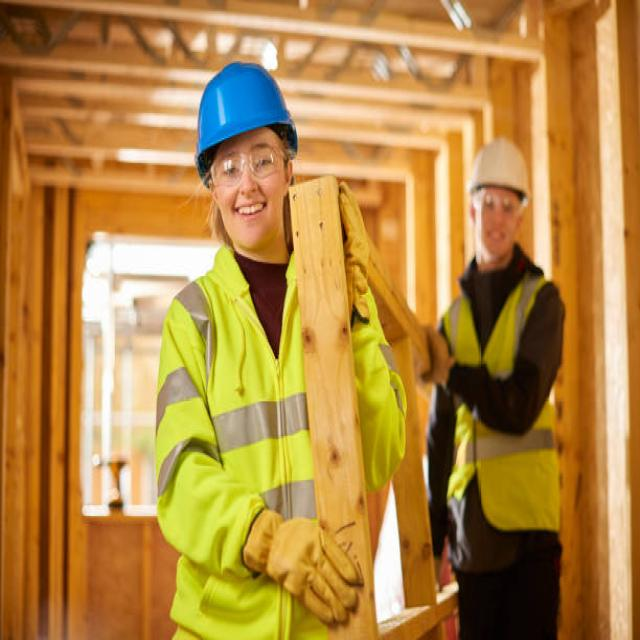gloves: (239, 507, 366, 629), (412, 321, 456, 386)
